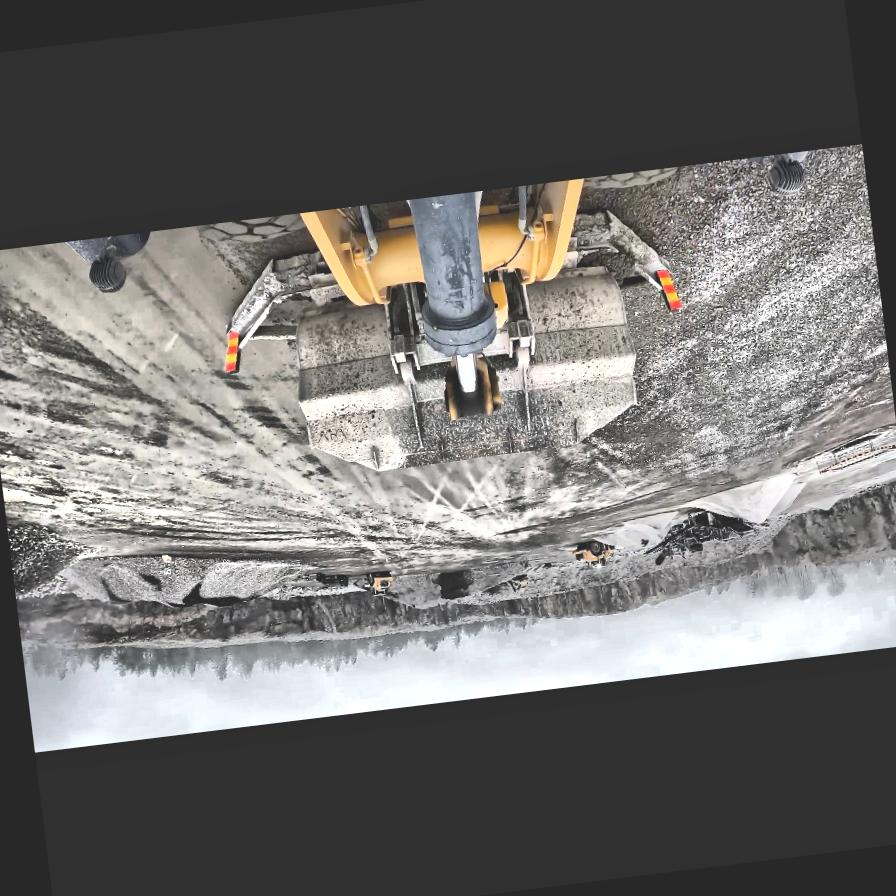anchor: (442, 353, 501, 420)
pile of gravel: (59, 534, 309, 626), (17, 574, 222, 656), (350, 555, 540, 618), (504, 542, 660, 600), (676, 470, 811, 532), (6, 514, 97, 601), (593, 514, 677, 556), (802, 493, 847, 514)
